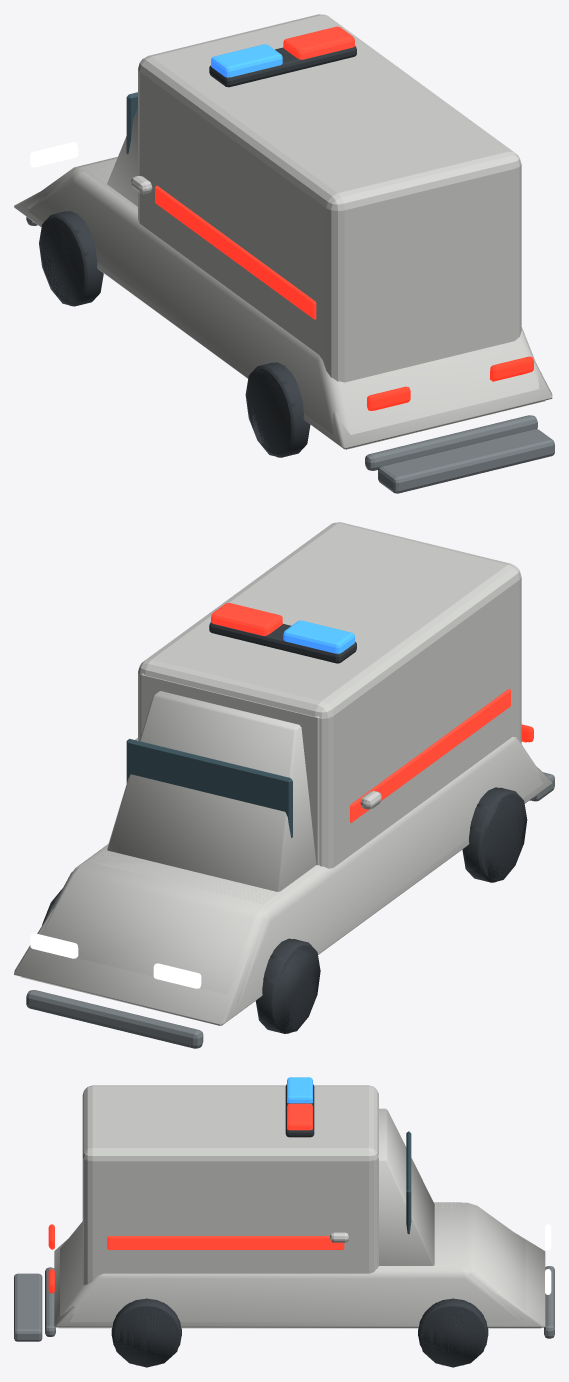
File: city_ambulance.glb
The picture shows the model from 3 angles, top to bottom: view 1: azimuth 30°, elevation 25°; view 2: azimuth 150°, elevation 25°; view 3: azimuth 270°, elevation 25°; orthographic projection. The views are drawn at different scales.
Parts seen in each view (by area): view 1: LOD0_city_ambulance_CargoVolume, LOD0_city_ambulance_LowerBody, LOD0_city_ambulance_RearStep, LOD2_city_ambulance_Body, LOD0_city_ambulance_Wheel_FL, LOD0_city_ambulance_Wheel_RL, LOD0_city_ambulance_RedBand_L, LOD0_city_ambulance_RearBumper, LOD1_city_ambulance_Wheel_FL, LOD0_city_ambulance_LightbarBase, LOD0_city_ambulance_LightbarBlue, LOD0_city_ambulance_LightbarRed (+6 smaller); view 2: LOD0_city_ambulance_CargoVolume, LOD2_city_ambulance_Upper, LOD1_city_ambulance_Body, LOD0_city_ambulance_LowerBody, LOD2_city_ambulance_Body, LOD1_city_ambulance_GlassBand, LOD1_city_ambulance_Upper, LOD0_city_ambulance_Wheel_RL, LOD0_city_ambulance_FrontBumper, LOD0_city_ambulance_Wheel_FL, LOD0_city_ambulance_RedBand_L, LOD1_city_ambulance_Wheel_FL (+6 smaller); view 3: LOD0_city_ambulance_CargoVolume, LOD0_city_ambulance_LowerBody, LOD1_city_ambulance_Body, LOD2_city_ambulance_Upper, LOD2_city_ambulance_Body, LOD0_city_ambulance_RedBand_R, LOD0_city_ambulance_Wheel_FR, LOD0_city_ambulance_Wheel_RR, LOD1_city_ambulance_Wheel_RR, LOD1_city_ambulance_Wheel_FR, LOD0_city_ambulance_RearStep, LOD0_city_ambulance_LightbarRed (+5 smaller).
Part boxes in pixels (x1,y1,x2,y2): LOD0_city_ambulance_CargoVolume: (138,14,521,382); LOD0_city_ambulance_LowerBody: (28,166,541,448); LOD0_city_ambulance_RearStep: (378,429,554,493); LOD2_city_ambulance_Body: (14,184,552,449); LOD0_city_ambulance_Wheel_FL: (40,211,101,306); LOD0_city_ambulance_Wheel_RL: (247,362,308,457); LOD0_city_ambulance_RedBand_L: (155,185,316,319); LOD0_city_ambulance_RearBumper: (365,415,537,470); LOD1_city_ambulance_Wheel_FL: (39,211,103,306); LOD0_city_ambulance_LightbarBase: (209,46,356,87); LOD0_city_ambulance_LightbarBlue: (211,44,282,77); LOD0_city_ambulance_LightbarRed: (283,26,354,59); LOD0_city_ambulance_CargoVolume: (138,522,521,868); LOD2_city_ambulance_Upper: (107,691,316,891); LOD1_city_ambulance_Body: (21,774,543,1025); LOD0_city_ambulance_LowerBody: (73,737,543,1006); LOD2_city_ambulance_Body: (14,765,552,1025); LOD1_city_ambulance_GlassBand: (126,738,292,837); LOD1_city_ambulance_Upper: (141,673,330,865); LOD0_city_ambulance_Wheel_RL: (464,787,524,882); LOD0_city_ambulance_FrontBumper: (26,990,203,1048); LOD0_city_ambulance_Wheel_FL: (257,938,318,1033); LOD0_city_ambulance_RedBand_L: (350,688,510,822); LOD1_city_ambulance_Wheel_FL: (255,939,320,1033); LOD0_city_ambulance_CargoVolume: (82,1085,378,1285); LOD0_city_ambulance_LowerBody: (60,1202,521,1322); LOD1_city_ambulance_Body: (59,1202,540,1328); LOD2_city_ambulance_Upper: (379,1108,434,1265); LOD2_city_ambulance_Body: (54,1232,545,1327); LOD0_city_ambulance_RedBand_R: (107,1236,344,1249); LOD0_city_ambulance_Wheel_FR: (418,1298,488,1365); LOD0_city_ambulance_Wheel_RR: (111,1298,181,1365); LOD1_city_ambulance_Wheel_RR: (111,1302,181,1367); LOD1_city_ambulance_Wheel_FR: (418,1302,488,1367); LOD0_city_ambulance_RearStep: (14,1273,42,1341); LOD0_city_ambulance_LightbarRed: (287,1103,312,1130).
Size of what is drawn, in the model's own units: 2.48 by 2.98 by 6.48.
